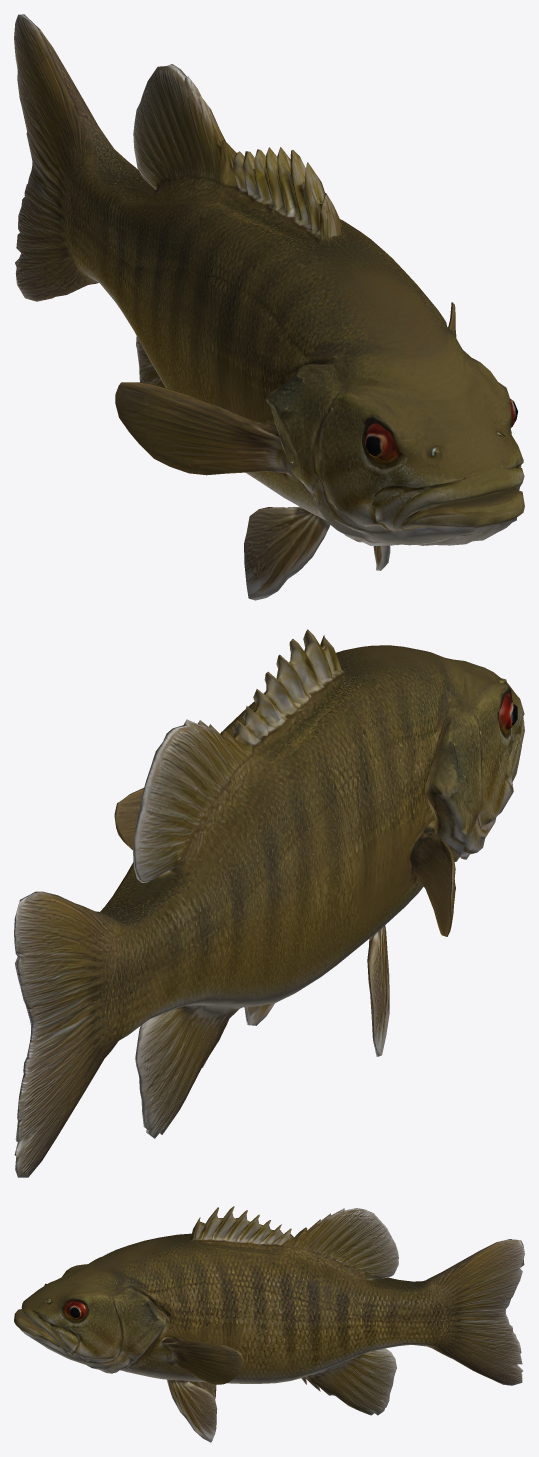
File: fish-smallmouth-bass.glb
3 views of the same model, one above another, from view 1: azimuth 30°, elevation 25°; view 2: azimuth 150°, elevation 25°; view 3: azimuth 270°, elevation 25° (orthographic). The views are drawn at different scales.
Parts seen in each view (by area): view 1: tripo_node_915e339d-a42d-4229-84c1-c312ed056a30; view 2: tripo_node_915e339d-a42d-4229-84c1-c312ed056a30; view 3: tripo_node_915e339d-a42d-4229-84c1-c312ed056a30.
Part boxes in pixels (x1,y1,x2,y2): tripo_node_915e339d-a42d-4229-84c1-c312ed056a30: (14,14,524,600); tripo_node_915e339d-a42d-4229-84c1-c312ed056a30: (14,629,524,1177); tripo_node_915e339d-a42d-4229-84c1-c312ed056a30: (14,1206,524,1442).
Bounding box in the file's own units: 0.2539 × 0.3 × 0.6332.
1 material, 1 textured.
